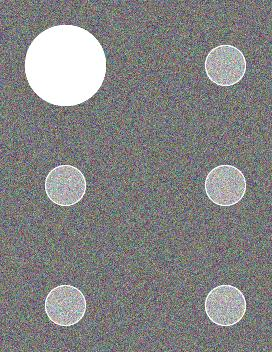A: (18, 19, 258, 339)
